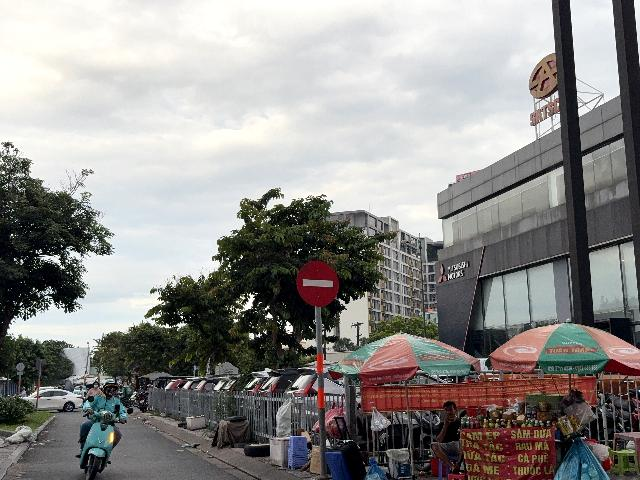cam-di-nguoc-chieu: (297, 260, 338, 307)
